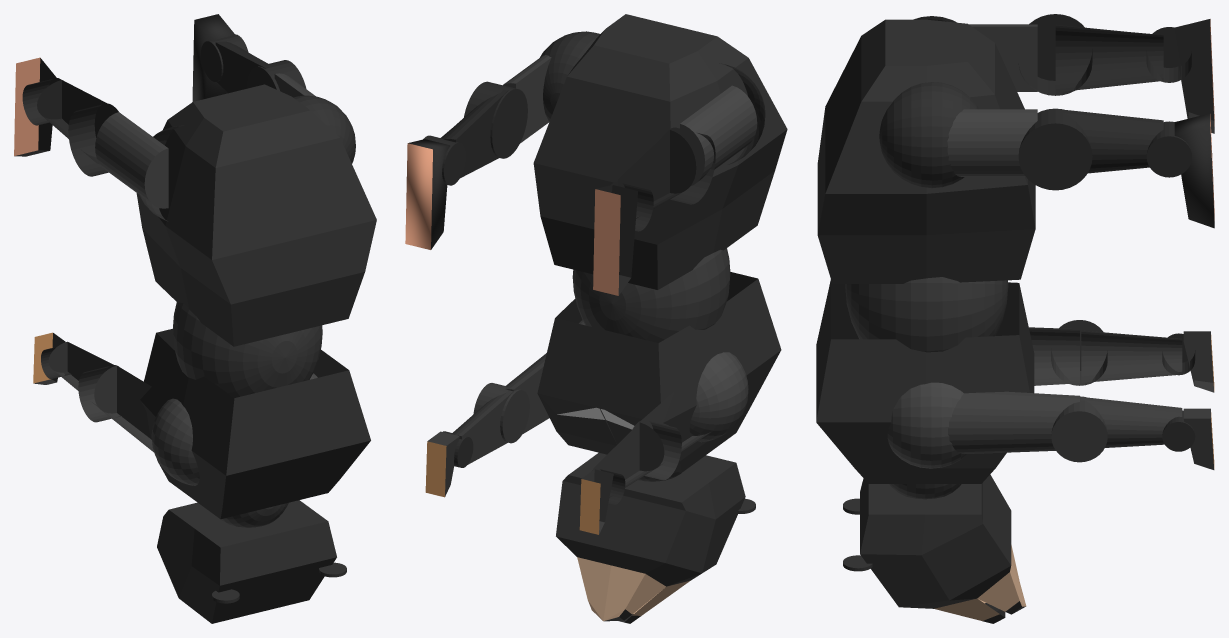
Rendered from taiwan bear.glb.
3 views of the same model, side by side, from view 1: azimuth 30°, elevation 25°; view 2: azimuth 150°, elevation 25°; view 3: azimuth 270°, elevation 25° (orthographic). The views are drawn at different scales.
Visible parts, largest first — view 1: TaiwanBear, Link_UpperBody_C, Head_C, RJoint_Torso_XYZ_C, Link_Back_Upper_R, RJoint_Front_Upper_XYZ_R, Link_Front_Upper_R, Link_Back_Foot_R, Link_Back_Lower_R, Link_Back_Foot_L, RJoint_Back_Lower_Z_R, Link_Front_Lower_R (+9 smaller); view 2: TaiwanBear, Link_UpperBody_C, Head_C, RJoint_Torso_XYZ_C, Link_Back_Upper_R, Link_Back_Foot_R, Link_Back_Foot_L, RJoint_Front_Upper_XYZ_R, Link_Back_Lower_R, RJoint_Back_Lower_Z_L, Link_Front_Lower_R, Link_Back_Lower_L (+13 smaller); view 3: TaiwanBear, Link_UpperBody_C, Head_C, RJoint_Torso_XYZ_C, RJoint_Back_Upper_XYZ_L, Link_Front_Upper_L, Link_Back_Lower_R, Link_Back_Upper_L, RJoint_Front_Upper_XYZ_L, RJoint_Back_Lower_Z_L, Link_Front_Lower_R, Link_Back_Lower_L (+14 smaller).
Boxes of the visible parts, bbox=[...] form: TaiwanBear: bbox=[136, 84, 376, 346]; Link_UpperBody_C: bbox=[140, 328, 370, 519]; Head_C: bbox=[157, 500, 346, 623]; RJoint_Torso_XYZ_C: bbox=[173, 302, 322, 397]; Link_Back_Upper_R: bbox=[95, 112, 168, 208]; RJoint_Front_Upper_XYZ_R: bbox=[151, 398, 199, 485]; Link_Front_Upper_R: bbox=[94, 365, 153, 452]; Link_Back_Foot_R: bbox=[14, 57, 56, 156]; Link_Back_Lower_R: bbox=[37, 80, 111, 164]; Link_Back_Foot_L: bbox=[192, 14, 234, 101]; RJoint_Back_Lower_Z_R: bbox=[68, 103, 118, 176]; Link_Front_Lower_R: bbox=[48, 341, 115, 407]; TaiwanBear: bbox=[533, 14, 787, 289]; Link_UpperBody_C: bbox=[537, 272, 781, 472]; Head_C: bbox=[556, 453, 755, 623]; RJoint_Torso_XYZ_C: bbox=[572, 248, 730, 343]; Link_Back_Upper_R: bbox=[680, 85, 757, 186]; Link_Back_Foot_R: bbox=[593, 185, 637, 295]; Link_Back_Foot_L: bbox=[405, 139, 450, 249]; RJoint_Front_Upper_XYZ_R: bbox=[689, 352, 748, 442]; Link_Back_Lower_R: bbox=[617, 130, 696, 218]; RJoint_Back_Lower_Z_L: bbox=[464, 81, 527, 158]; Link_Front_Lower_R: bbox=[593, 422, 664, 497]; Link_Back_Lower_L: bbox=[441, 90, 508, 178]; TaiwanBear: bbox=[817, 19, 1035, 283]; Link_UpperBody_C: bbox=[816, 279, 1034, 483]; Head_C: bbox=[843, 474, 1026, 623]; RJoint_Torso_XYZ_C: bbox=[845, 277, 1008, 352]; RJoint_Back_Upper_XYZ_L: bbox=[879, 82, 978, 188]; Link_Front_Upper_L: bbox=[948, 391, 1079, 453]; Link_Back_Lower_R: bbox=[1055, 24, 1163, 92]; Link_Back_Upper_L: bbox=[947, 109, 1037, 176]; RJoint_Front_Upper_XYZ_L: bbox=[887, 382, 967, 468]; RJoint_Back_Lower_Z_L: bbox=[1018, 108, 1092, 190]; Link_Front_Lower_R: bbox=[1081, 330, 1182, 382]; Link_Back_Lower_L: bbox=[1055, 109, 1163, 173].
Size of what is drawn, in the model's own units: 1.45 by 3.54 by 2.22.
